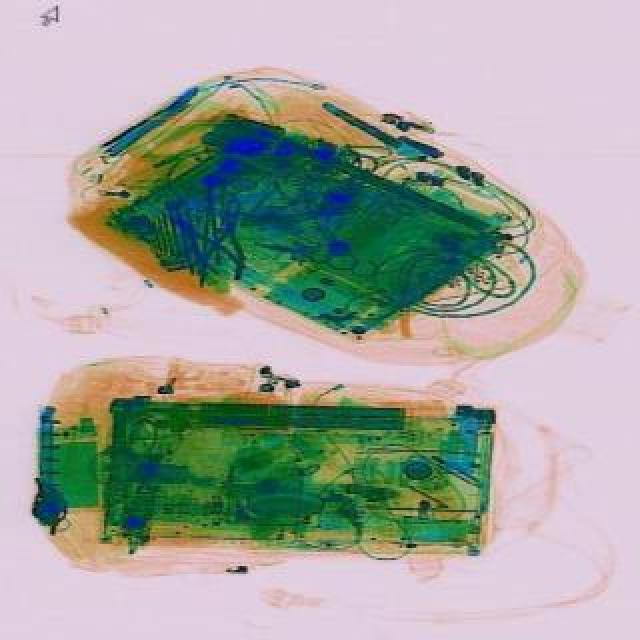wrench: (170, 206, 248, 280), (202, 196, 260, 292)
